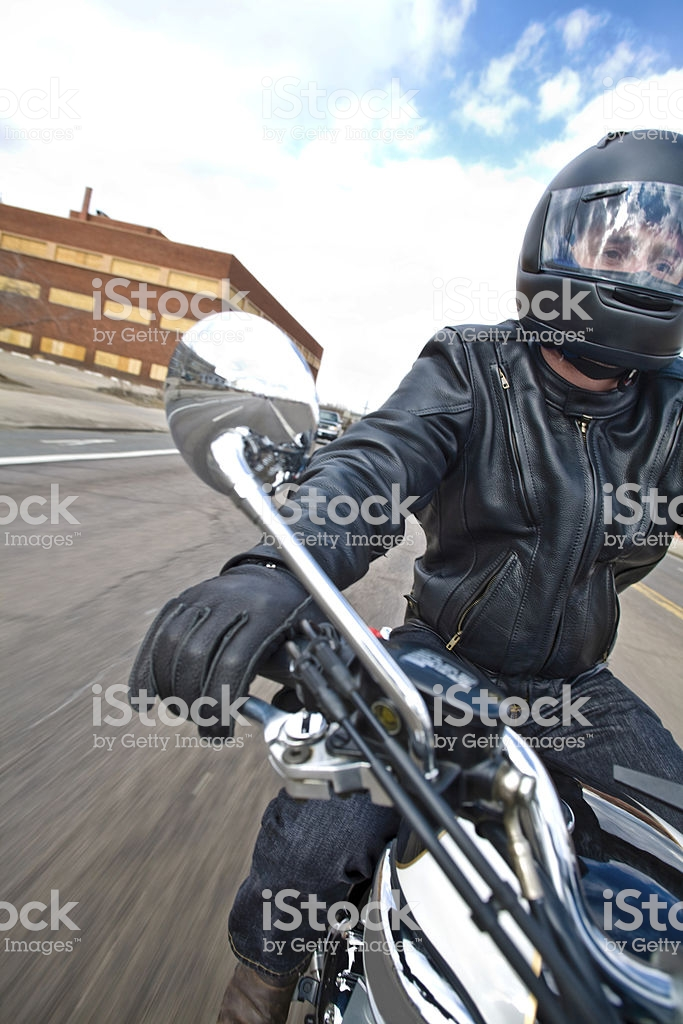helmet: (506, 129, 683, 344)
